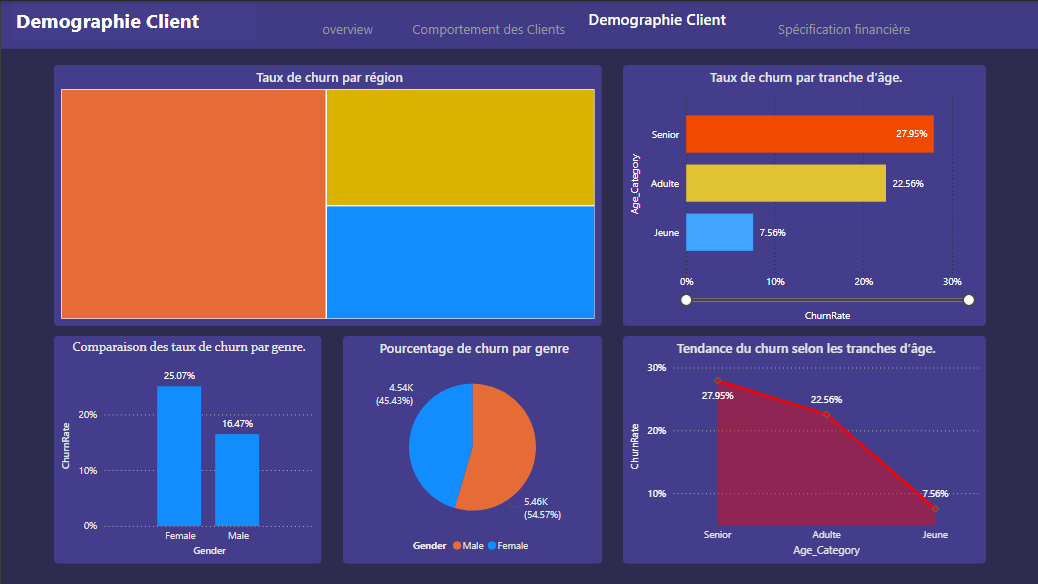

The dashboard page shown, as its layout file describes it:
{"tool":"powerbi","page":{"name":"Demographie Client","canvas":[1280,720],"ordinal":2},"visuals":[{"type":"shape","box":[0,0,1280,59.2],"z":0},{"type":"textbox","box":[13.6,2.5,301.2,46.9],"z":1000},{"type":"treemap","title":"Taux de churn par région","fields":{"Group":["dim_Localisation.Geography"],"Values":["table_faits.ChurnRate"]},"box":[65.4,79,676.4,322.2],"z":2000},{"type":"barChart","title":"Taux de churn par tranche d’âge.","fields":{"Category":["dim_Client.Age_Category"],"Y":["table_faits.ChurnRate"]},"box":[767.8,79,448.1,322.2],"z":3000},{"type":"lineChart","title":"Tendance du churn selon les tranches d’âge.","fields":{"Category":["dim_Client.Age_Category"],"Y":["table_faits.ChurnRate"]},"box":[767.7,413.9,448.4,281],"z":4000},{"type":"pieChart","title":"Pourcentage de churn par genre","fields":{"Category":["dim_Client.Gender"],"Y":["CountNonNull(table_faits.id_Client)"]},"box":[422.1,413.5,319.7,281.4],"z":5000},{"type":"columnChart","title":"Comparaison des taux de churn par genre.","fields":{"Category":["dim_Client.Gender"],"Y":["table_faits.ChurnRate"]},"box":[65.4,413.5,329.6,281.4],"z":6000},{"type":"actionButton","title":"overview","box":[377.6,19.1,99.9,30.9],"z":7000},{"type":"actionButton","title":"Demographie Client","box":[700.9,10.3,217.5,30.9],"z":8000},{"type":"actionButton","title":"Comportement  des Clients","box":[461.4,19.1,280.7,30.9],"z":9000},{"type":"actionButton","title":"Page 3","box":[918.3,18.5,244.4,30.9],"z":10000}]}

Visuals, with their boxes in screenshot pixels (x1, y1, x2, y2), scaled from the page's 1280x720 canvas onto the 1038x584 screenshot:
shape: [0, 0, 1037, 48]
textbox: [11, 2, 255, 40]
"Taux de churn par région" treemap: [53, 64, 602, 325]
"Taux de churn par tranche d’âge." barChart: [623, 64, 986, 325]
"Tendance du churn selon les tranches d’âge." lineChart: [623, 336, 986, 564]
"Pourcentage de churn par genre" pieChart: [342, 335, 602, 564]
"Comparaison des taux de churn par genre." columnChart: [53, 335, 320, 564]
"overview" actionButton: [306, 15, 387, 41]
"Demographie Client" actionButton: [568, 8, 745, 33]
"Comportement  des Clients" actionButton: [374, 15, 602, 41]
"Page 3" actionButton: [745, 15, 943, 40]
